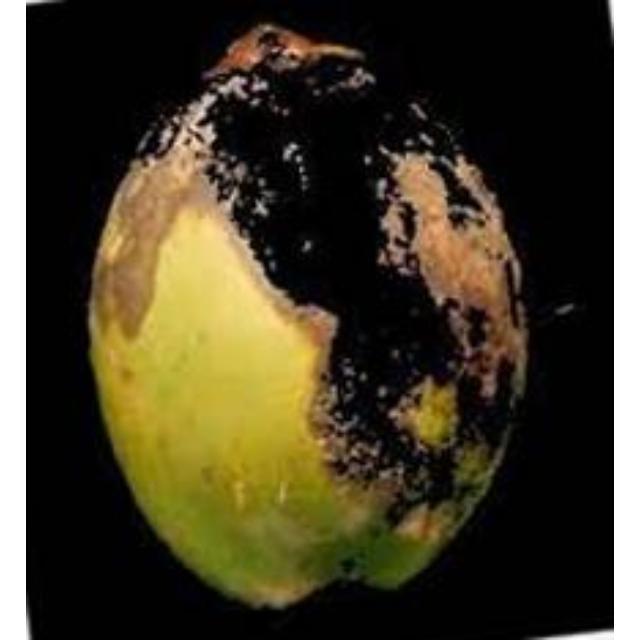damaged: (86, 22, 529, 613)
